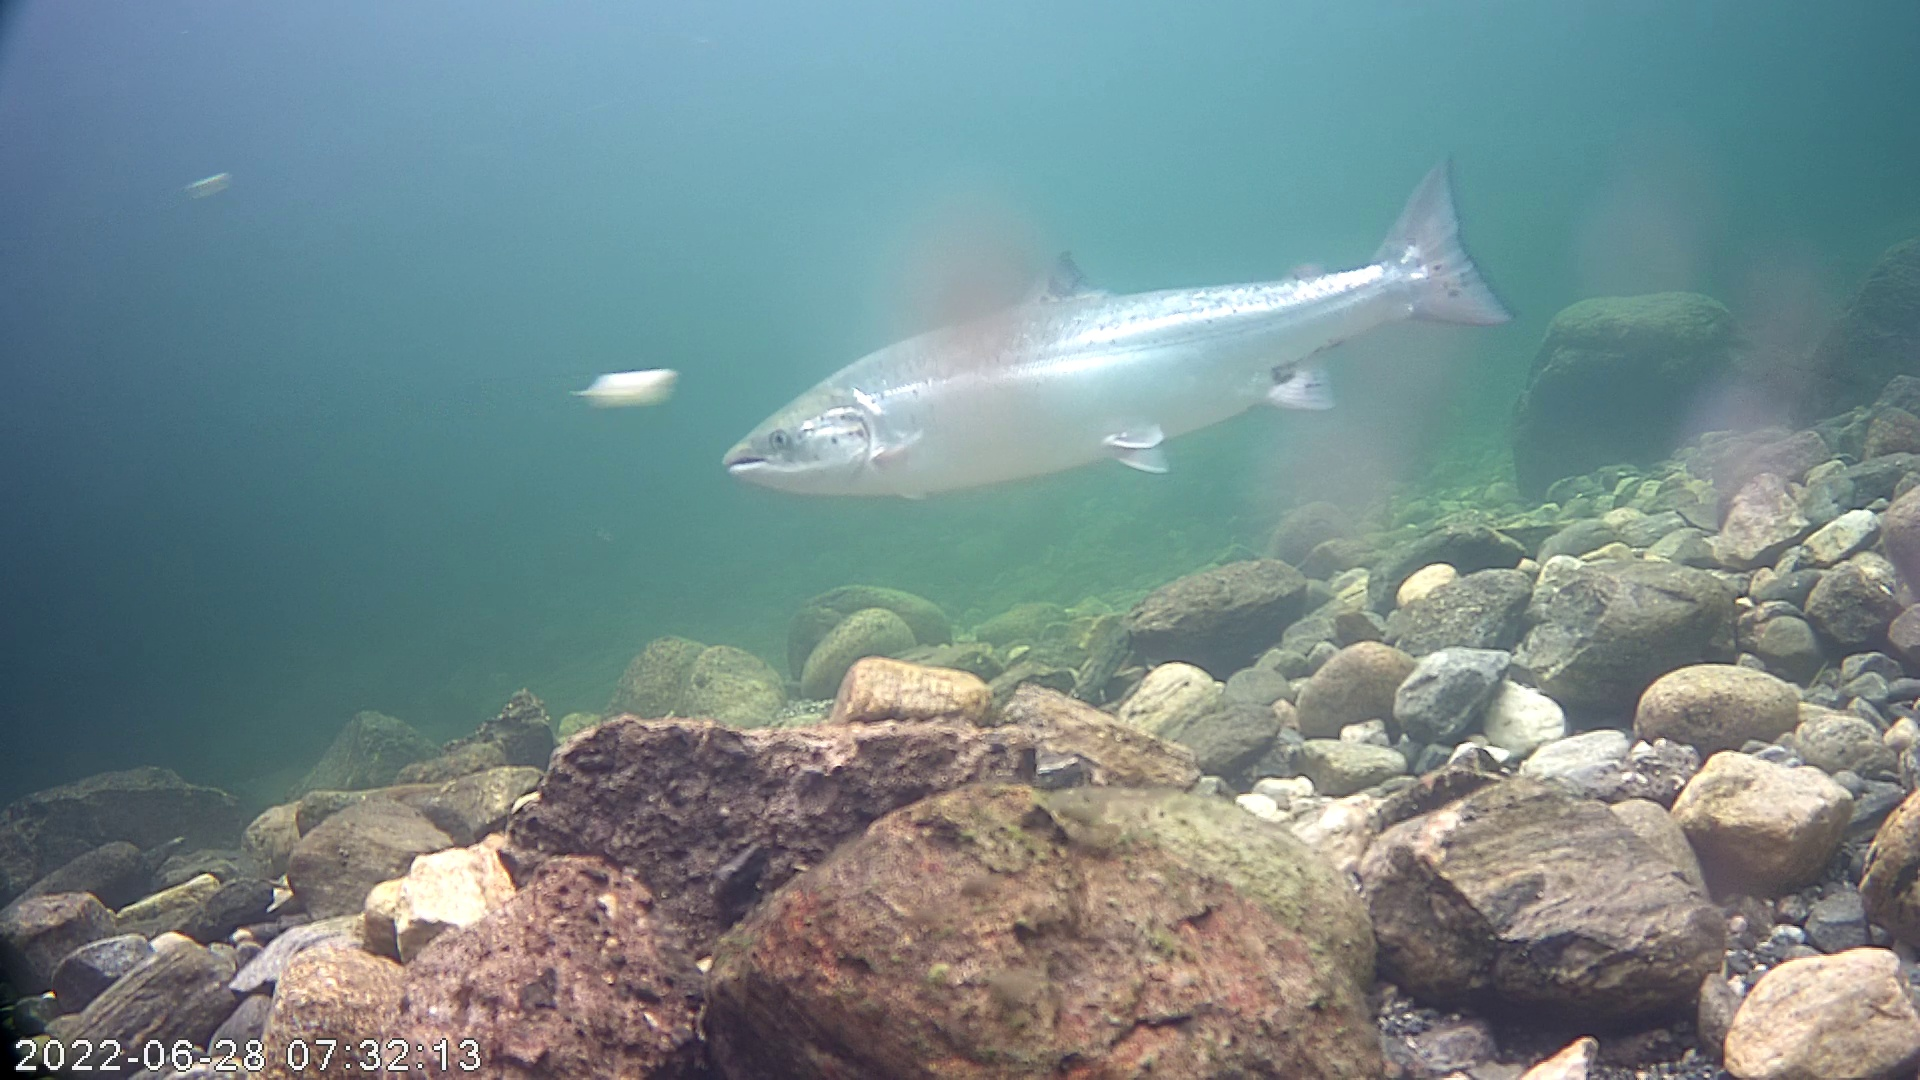salmon: (700, 113, 1547, 553)
